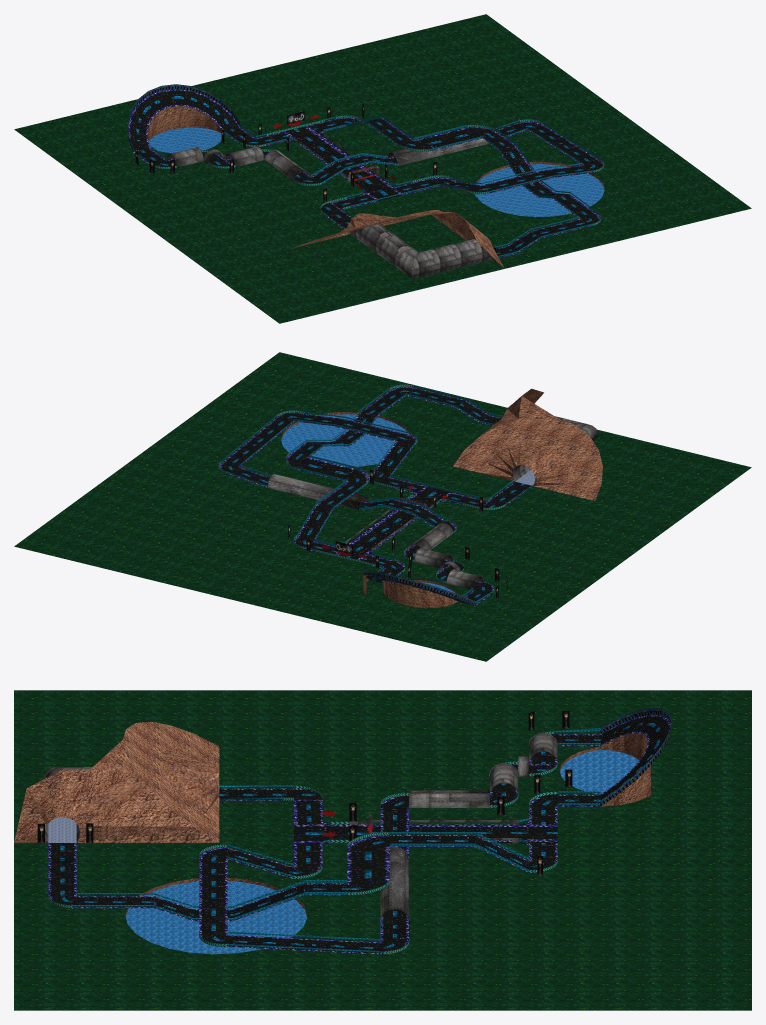
The picture shows the model from 3 angles, top to bottom: view 1: azimuth 30°, elevation 25°; view 2: azimuth 150°, elevation 25°; view 3: azimuth 270°, elevation 25°; orthographic projection. The views are drawn at different scales.
Parts seen in each view (by area): view 1: grass.036, road.035, wall_metal.001, ani_wtr_out.001, rock.008, blue_fence.001, ani_arrow.001, trans_light.001, trans_wall.001; view 2: grass.036, road.035, rock.008, wall_metal.001, ani_wtr_out.001, blue_fence.001, ani_arrow.001, trans_light.001, trans_wall.001; view 3: grass.036, road.035, rock.008, ani_wtr_out.001, wall_metal.001, blue_fence.001, ani_arrow.001, trans_light.001, trans_wall.001, ani_trans_wtr_in.001.
Boxes of the visible parts, box(x1,y1,x2,y2) form: grass.036: box(14, 14, 751, 323); road.035: box(128, 89, 603, 257); wall_metal.001: box(166, 132, 493, 279); ani_wtr_out.001: box(149, 127, 604, 216); rock.008: box(147, 106, 604, 268); blue_fence.001: box(133, 115, 600, 256); ani_arrow.001: box(154, 115, 604, 225); trans_light.001: box(135, 104, 496, 252); trans_wall.001: box(128, 84, 518, 152); grass.036: box(14, 352, 751, 661); road.035: box(219, 386, 532, 605); rock.008: box(281, 388, 602, 608); wall_metal.001: box(267, 416, 597, 589); ani_wtr_out.001: box(281, 414, 454, 592); blue_fence.001: box(220, 385, 532, 603); ani_arrow.001: box(218, 384, 505, 592); trans_light.001: box(288, 417, 507, 599); trans_wall.001: box(227, 444, 475, 605); grass.036: box(14, 690, 751, 1010); road.035: box(48, 714, 670, 954); rock.008: box(14, 721, 650, 917); ani_wtr_out.001: box(126, 750, 638, 954); wall_metal.001: box(44, 733, 557, 920); blue_fence.001: box(72, 728, 600, 952); ani_arrow.001: box(48, 731, 557, 954); trans_light.001: box(37, 711, 572, 875); trans_wall.001: box(347, 708, 671, 940); ani_trans_wtr_in.001: box(48, 817, 76, 842).
Size of the model in its own units: 106210 by 9530 by 103450.
Materials: 13 (13 with a texture image).
